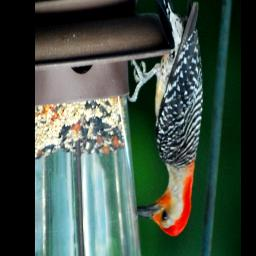Woodpecker: (128, 0, 206, 237)
